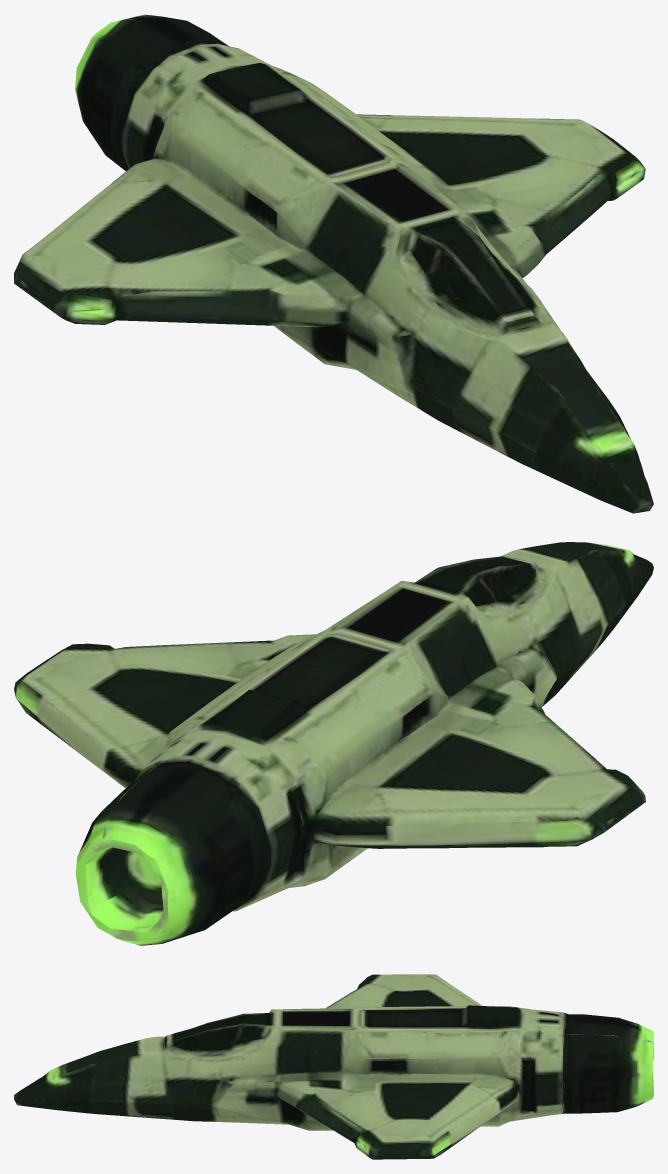
The model's file is enemy-basic-s7.glb.
3 views of the same model, one above another, from view 1: azimuth 30°, elevation 25°; view 2: azimuth 150°, elevation 25°; view 3: azimuth 270°, elevation 25° (orthographic). The views are drawn at different scales.
Visible parts, largest first — view 1: 2eeb1933-a6ca-4bd0-a515-30dd85c03f9c_texturing.obj; view 2: 2eeb1933-a6ca-4bd0-a515-30dd85c03f9c_texturing.obj; view 3: 2eeb1933-a6ca-4bd0-a515-30dd85c03f9c_texturing.obj.
Part boxes in pixels (x1,y1,x2,y2): 2eeb1933-a6ca-4bd0-a515-30dd85c03f9c_texturing.obj: [14, 14, 653, 513]; 2eeb1933-a6ca-4bd0-a515-30dd85c03f9c_texturing.obj: [14, 542, 653, 945]; 2eeb1933-a6ca-4bd0-a515-30dd85c03f9c_texturing.obj: [14, 974, 653, 1159].
Bounding box in the file's own units: 1.3 × 0.3399 × 1.99.
1 material, 1 textured.
